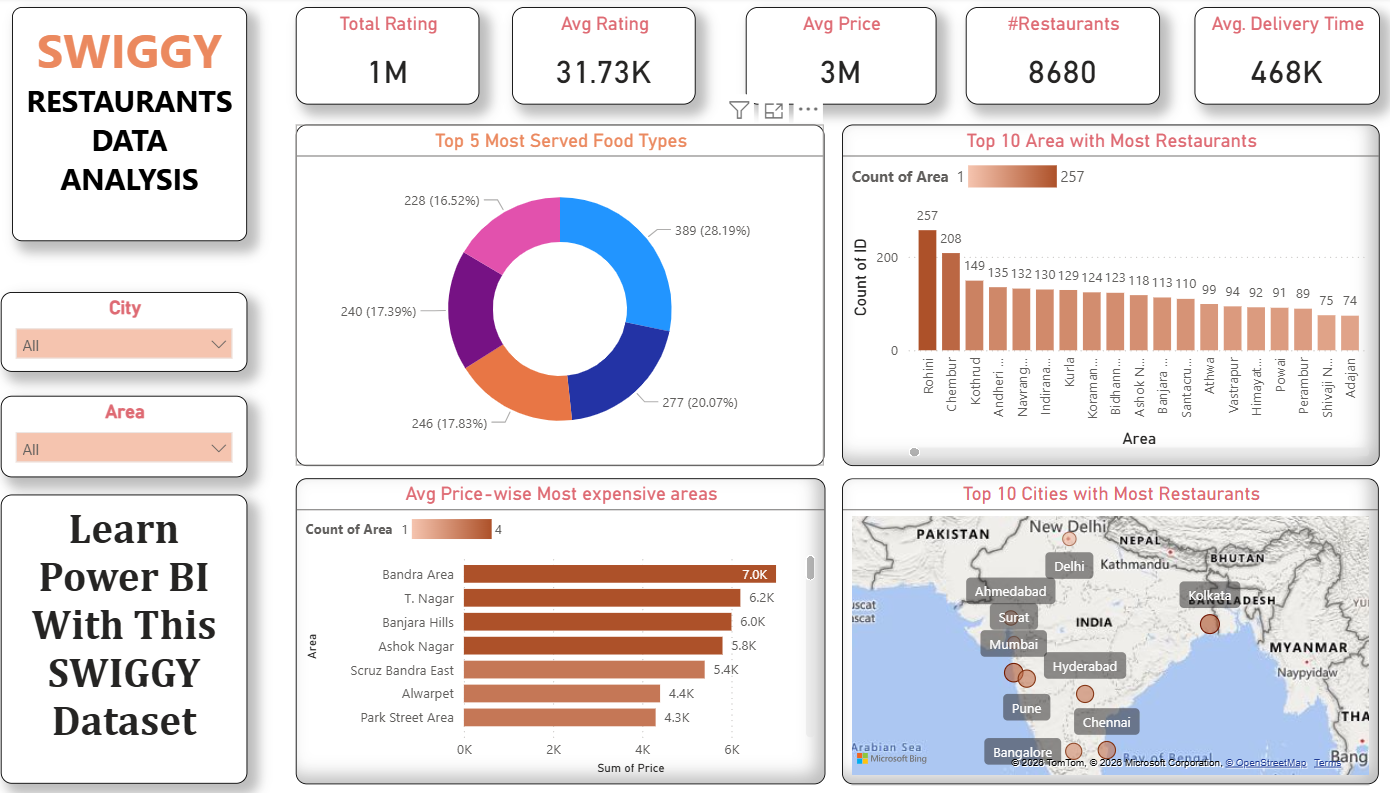

The dashboard page shown, as its layout file describes it:
{"tool":"powerbi","page":{"name":"Page 1","canvas":[1280,720],"ordinal":0},"visuals":[{"type":"card","title":"Avg Rating","fields":{"Values":["Sum(swiggy.Avg ratings)"]},"box":[473.7,9.5,165.8,87.6],"z":0},{"type":"card","title":"Avg Price","fields":{"Values":["Sum(swiggy.Price)"]},"box":[684.5,9.5,171.7,87.6],"z":1000},{"type":"card","title":"#Restaurants","fields":{"Values":["CountNonNull(swiggy.ID)"]},"box":[882.3,9.5,175.3,87.6],"z":2000},{"type":"card","title":"Avg. Delivery Time","fields":{"Values":["Sum(swiggy.Delivery time)"]},"box":[1088.4,9.5,167,87.6],"z":3000},{"type":"donutChart","title":"Top 5 Most Served Food Types","fields":{"Category":["swiggy.Food type"],"Y":["CountNonNull(swiggy.ID)"]},"box":[278.4,115,476.8,307.7],"z":5000},{"type":"textbox","box":[22.5,9.5,212,210.8],"z":6003},{"type":"slicer","title":"City","fields":{"Values":["swiggy.City"]},"box":[11.8,266.5,222.7,72.2],"z":6004},{"type":"slicer","title":"Area","fields":{"Values":["swiggy.Area"]},"box":[11.8,360,222.7,73.4],"z":6005},{"type":"card","title":"Total Rating","fields":{"Values":["Sum(swiggy.Total ratings)"]},"box":[278.3,9.5,165.8,87.6],"z":6007},{"type":"columnChart","title":"Top 10 Area with Most Restaurants","fields":{"Category":["swiggy.Area"],"Y":["CountNonNull(swiggy.ID)"]},"box":[770.9,115,484.7,307.7],"z":6008},{"type":"map","title":"Top 10 Cities with Most Restaurants","fields":{"Category":["swiggy.City"],"Size":["CountNonNull(swiggy.ID)"]},"box":[771,433.5,484.4,275.9],"z":6009},{"type":"clusteredBarChart","title":"Avg Price-wise Most expensive areas","fields":{"Category":["swiggy.Area"],"Y":["Sum(swiggy.Price)"]},"box":[278.3,433.5,477.3,275.9],"z":6010},{"type":"textbox","box":[11.8,448.9,222.7,260.5],"z":6011}]}

Visuals, with their boxes in screenshot pixels (x1, y1, x2, y2), scaled from the page's 1280x720 canvas onto the 1390x793 screenshot:
"Avg Rating" card: 514,10,694,107
"Avg Price" card: 743,10,930,107
"#Restaurants" card: 958,10,1148,107
"Avg. Delivery Time" card: 1182,10,1363,107
"Top 5 Most Served Food Types" donutChart: 302,127,820,466
textbox: 24,10,255,243
"City" slicer: 13,294,255,373
"Area" slicer: 13,397,255,477
"Total Rating" card: 302,10,482,107
"Top 10 Area with Most Restaurants" columnChart: 837,127,1364,466
"Top 10 Cities with Most Restaurants" map: 837,477,1363,781
"Avg Price-wise Most expensive areas" clusteredBarChart: 302,477,821,781
textbox: 13,494,255,781
